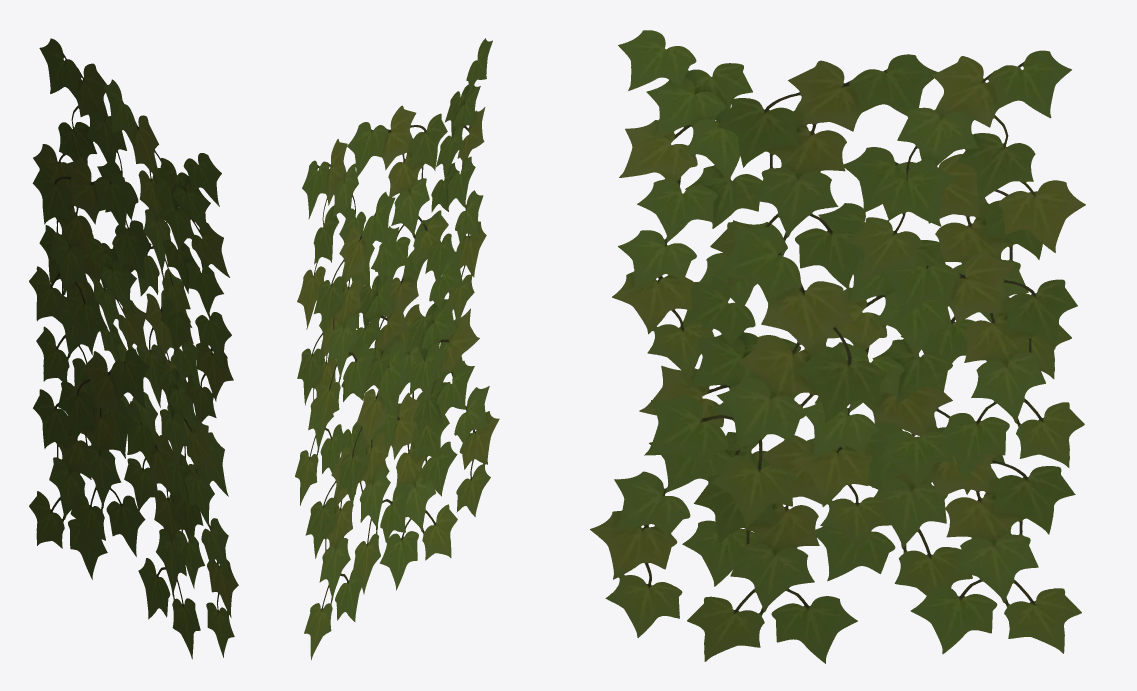
The picture shows the model from 3 angles, left to right: view 1: azimuth 30°, elevation 25°; view 2: azimuth 150°, elevation 25°; view 3: azimuth 270°, elevation 25°; orthographic projection. The views are drawn at different scales.
Parts seen in each view (by area): view 1: body0_model0_lod0_mesh0; view 2: body0_model0_lod0_mesh0; view 3: body0_model0_lod0_mesh0.
Boxes of the visible parts, bbox=[...] form: body0_model0_lod0_mesh0: bbox=[29, 38, 238, 659]; body0_model0_lod0_mesh0: bbox=[295, 38, 499, 660]; body0_model0_lod0_mesh0: bbox=[590, 30, 1085, 663].
Bounding box in the file's own units: 5.53 × 64.28 × 51.45.
Materials: 1 (1 with a texture image).
